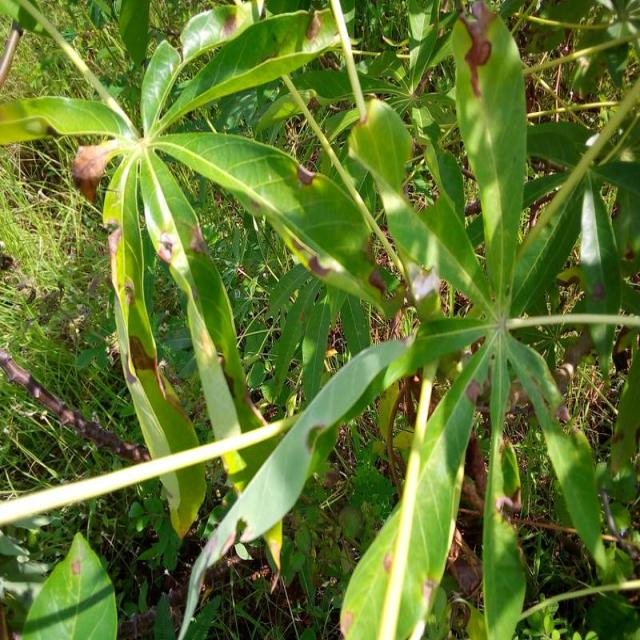cassava leaf: (1, 1, 636, 638), (450, 3, 528, 303), (20, 530, 118, 639)
